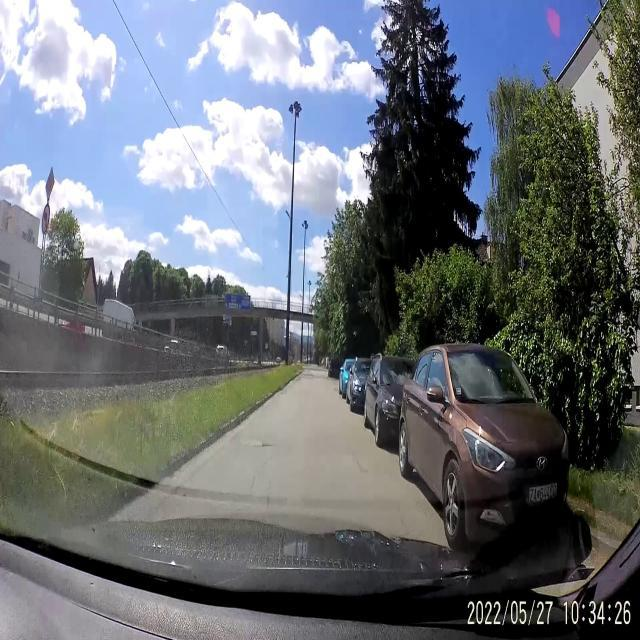Manhole: (239, 434, 263, 452)
Pothole: (262, 440, 272, 452)
